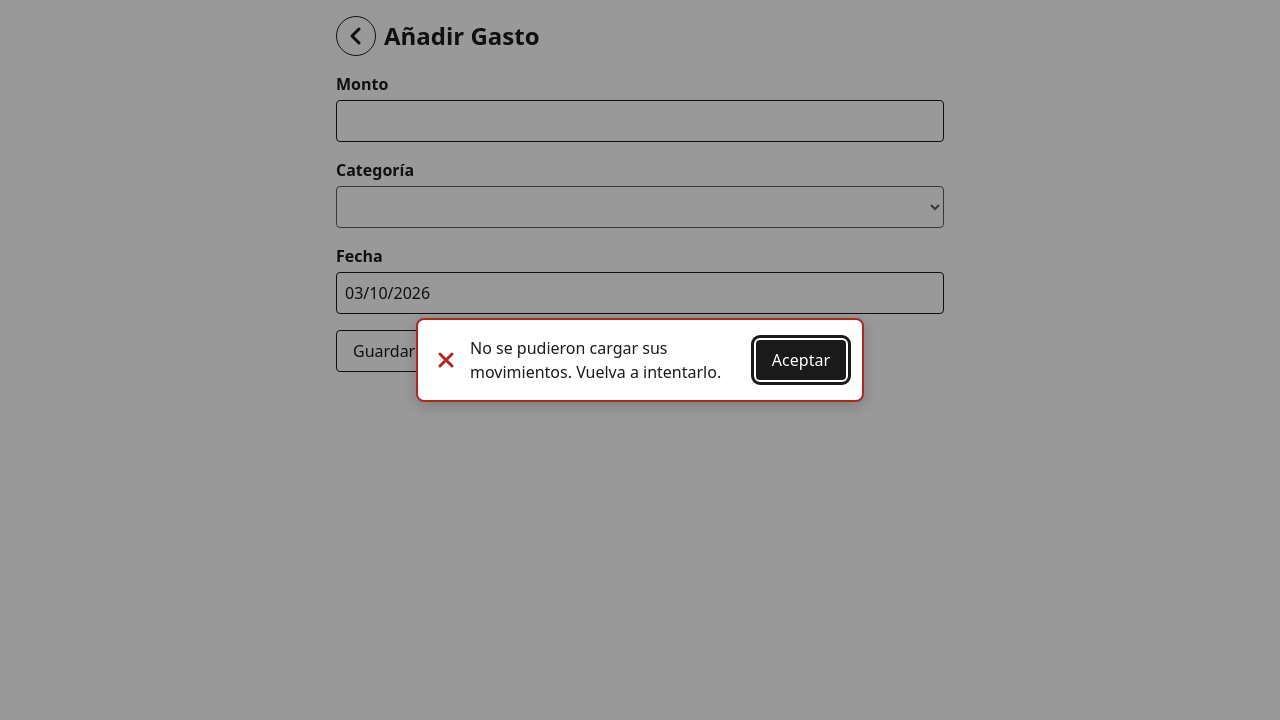
Scenario: FormularioMovimiento › selector de categoría › (error E6-4) si falla la carga de categorías muestra el error de carga con "Aceptar" y "Guardar" deshabilitado; "Aceptar" reintenta
Expected: the dialog shows "No se pudieron cargar sus movimientos. Vuelva a intentarlo.", [470, 337, 721, 383]
Expected: the button "Guardar" is disabled, [336, 330, 432, 372]
Click the button "Aceptar": (801, 360) [756, 340, 846, 380]
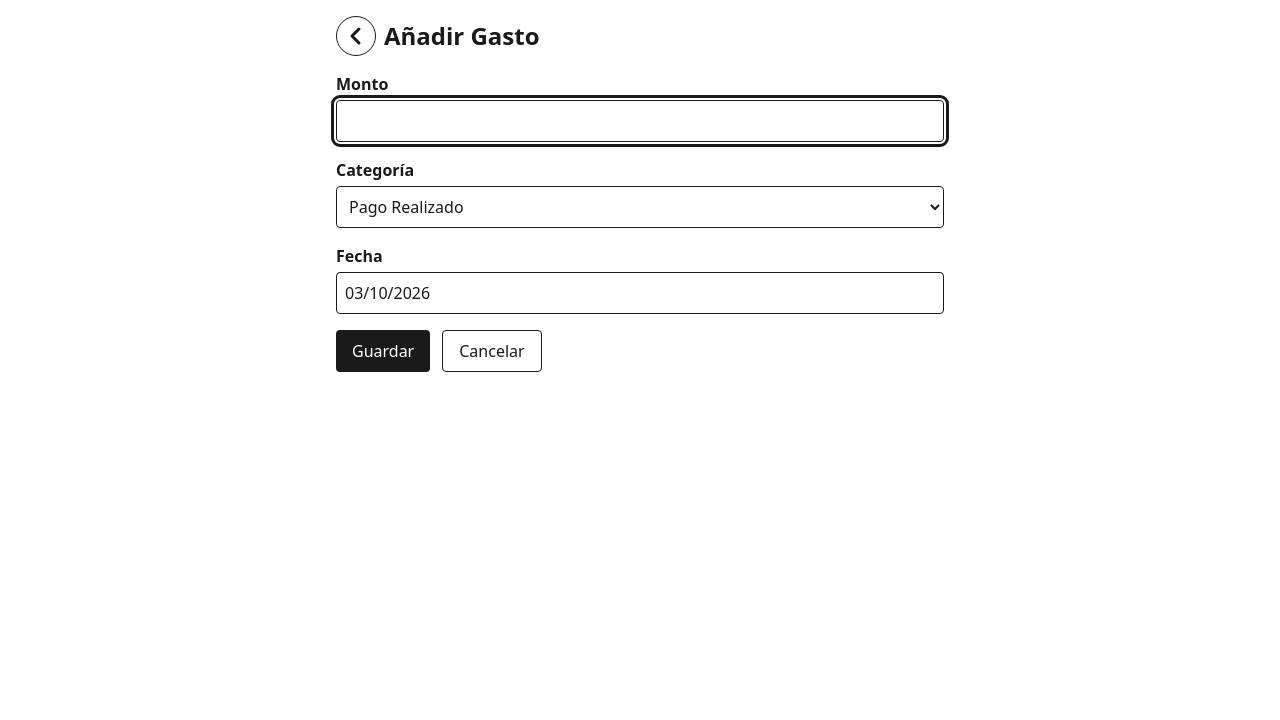
Now the dialog is gone
Now the button "Guardar" is enabled, box [336, 330, 430, 372]
